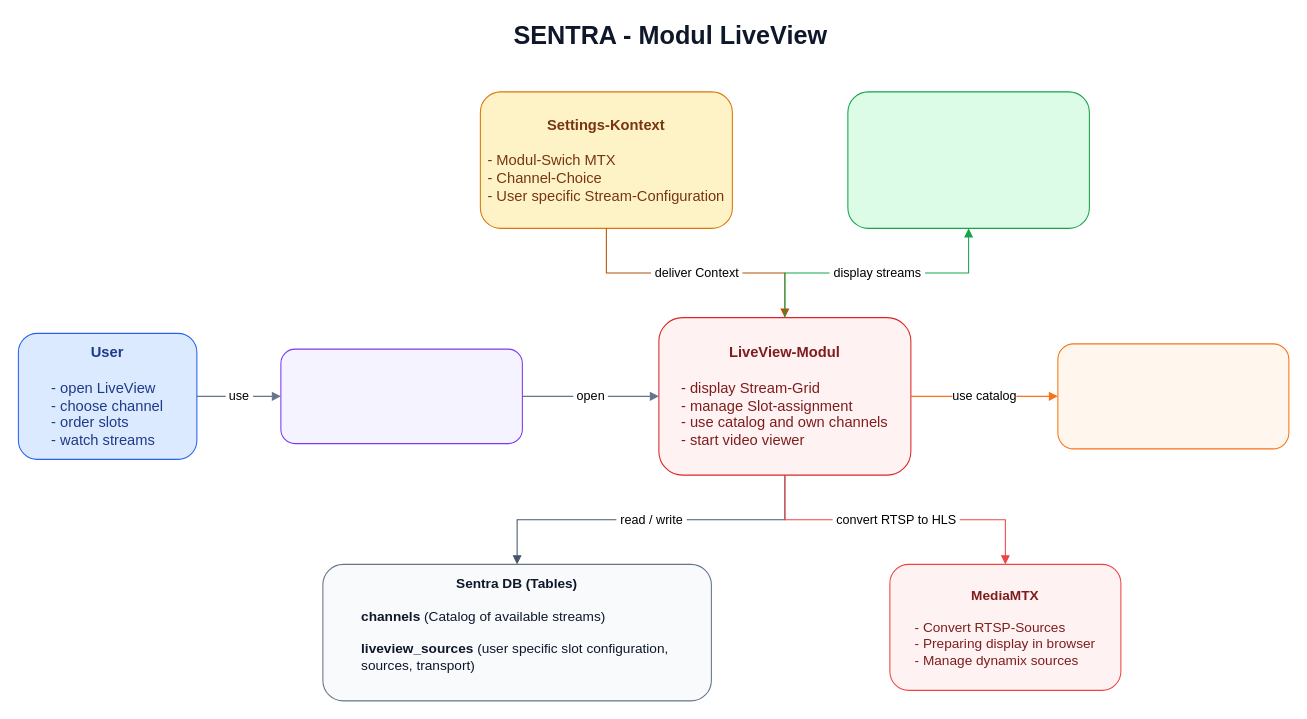
This 1307x719 diagram has some shape labels left out. Each missing label, with the box of its shape:
Channel-Catalog - Preparing stream sources - Ort, Name, URL: (1057, 343, 1289, 449)
Display for user - Grid with streams - Live-Streams and Webcams - User Slots: (847, 91, 1089, 228)
Sentra Dashboard - Navigation to Modul LiveView: (280, 348, 522, 444)
